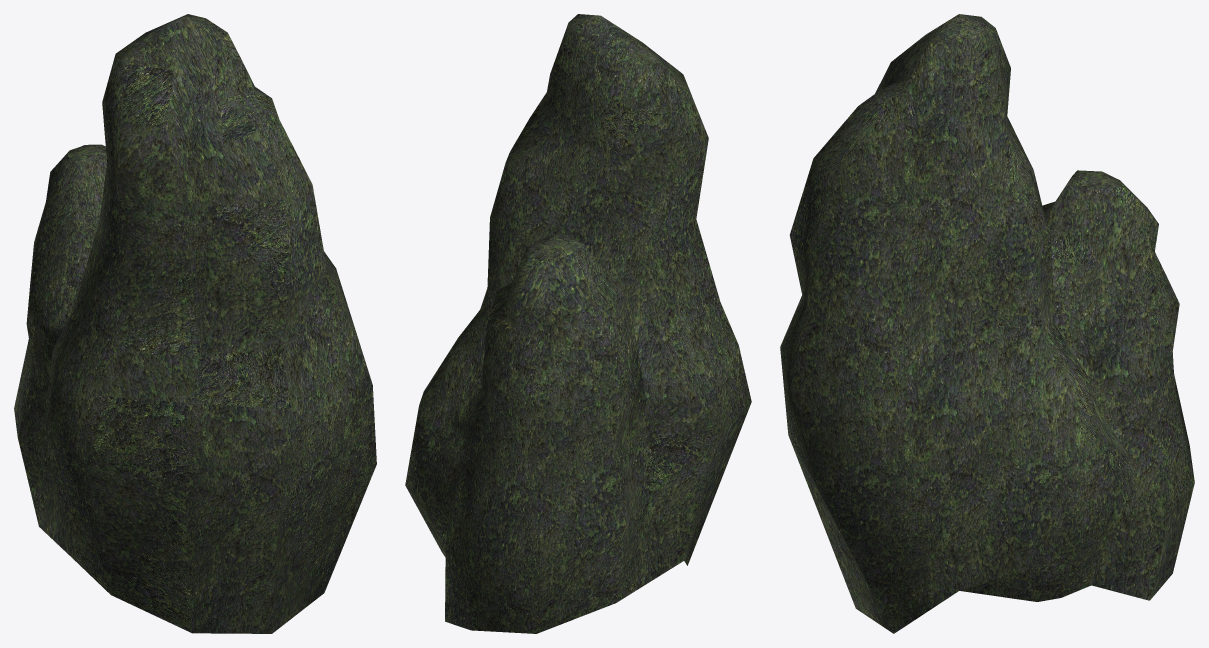
The model's file is rock_pillar_00.fbx.
3 views of the same model, side by side, from view 1: azimuth 30°, elevation 25°; view 2: azimuth 150°, elevation 25°; view 3: azimuth 270°, elevation 25° (orthographic). The views are drawn at different scales.
Parts seen in each view (by area): view 1: rock_pillar_00; view 2: rock_pillar_00; view 3: rock_pillar_00.
Part boxes in pixels (<box>): rock_pillar_00: <box>14,14,376,633</box>; rock_pillar_00: <box>405,14,751,633</box>; rock_pillar_00: <box>780,14,1194,633</box>.
Size of the model in its own units: 24.72 by 47.44 by 30.91.
